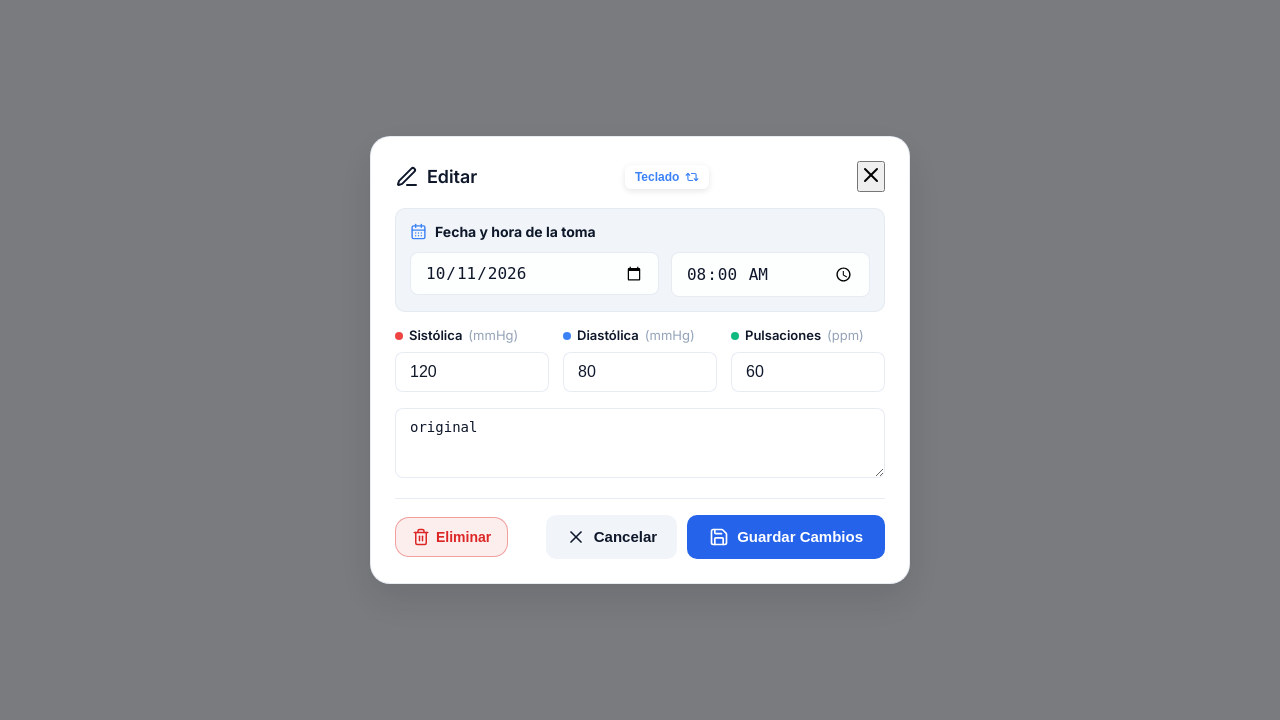
it: formularios ante fallos de storage › usa un mensaje específico cuando falla el borrado de una medición
Step 1. Click the button "Eliminar" → [452, 537], box [395,517,508,557]
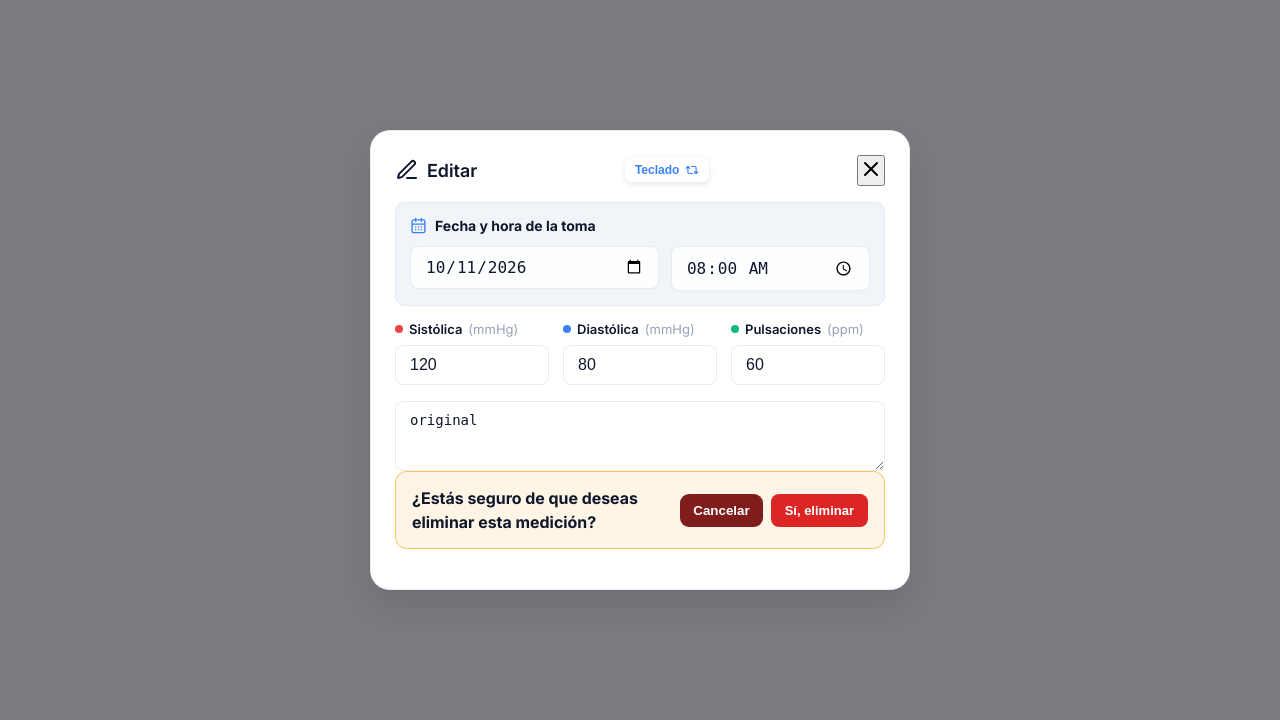
Step 2. Click the button "Sí, eliminar" → [819, 510], box [771,494,868,527]
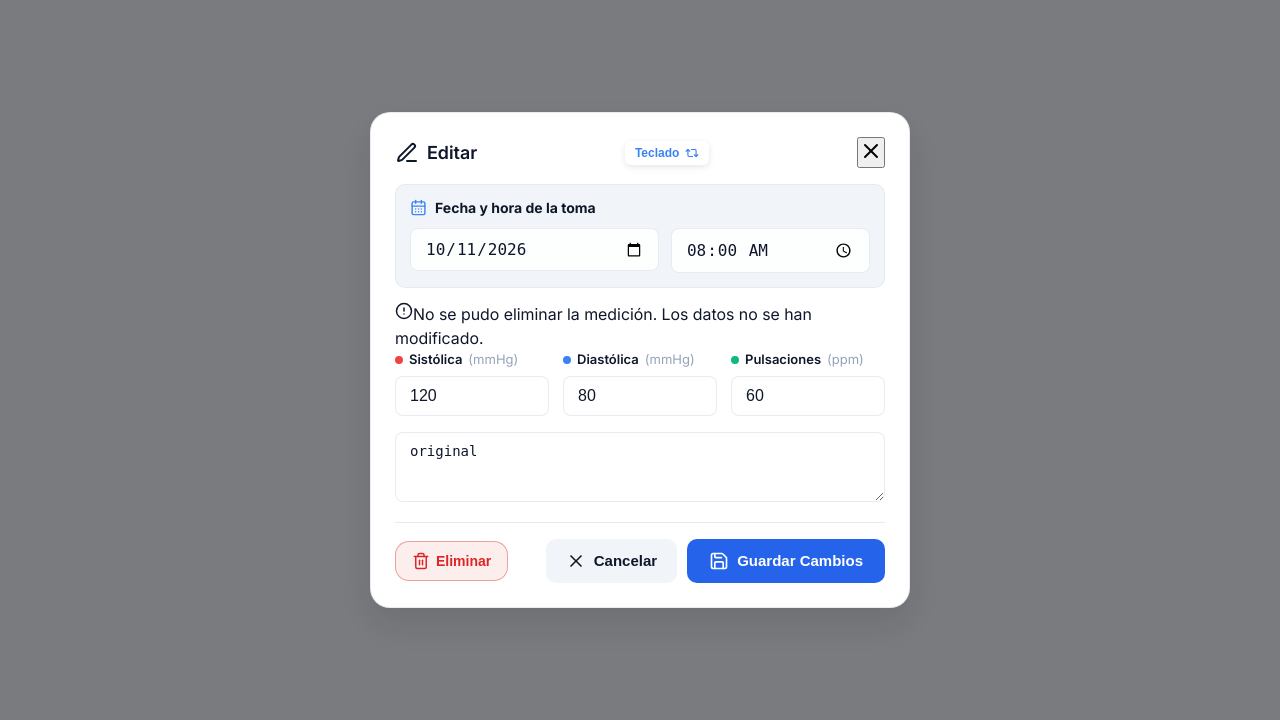
expect the text "No se pudo eliminar la medición" is shown: met, box [395,304,812,348]
